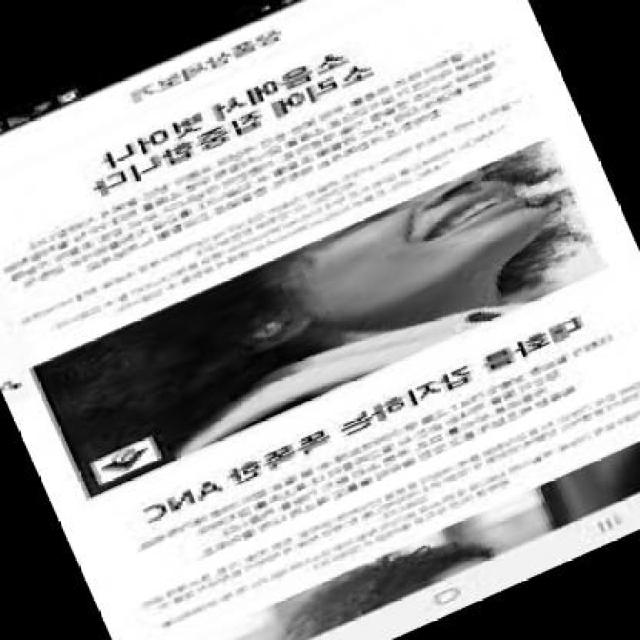earphone: (244, 301, 296, 348)
